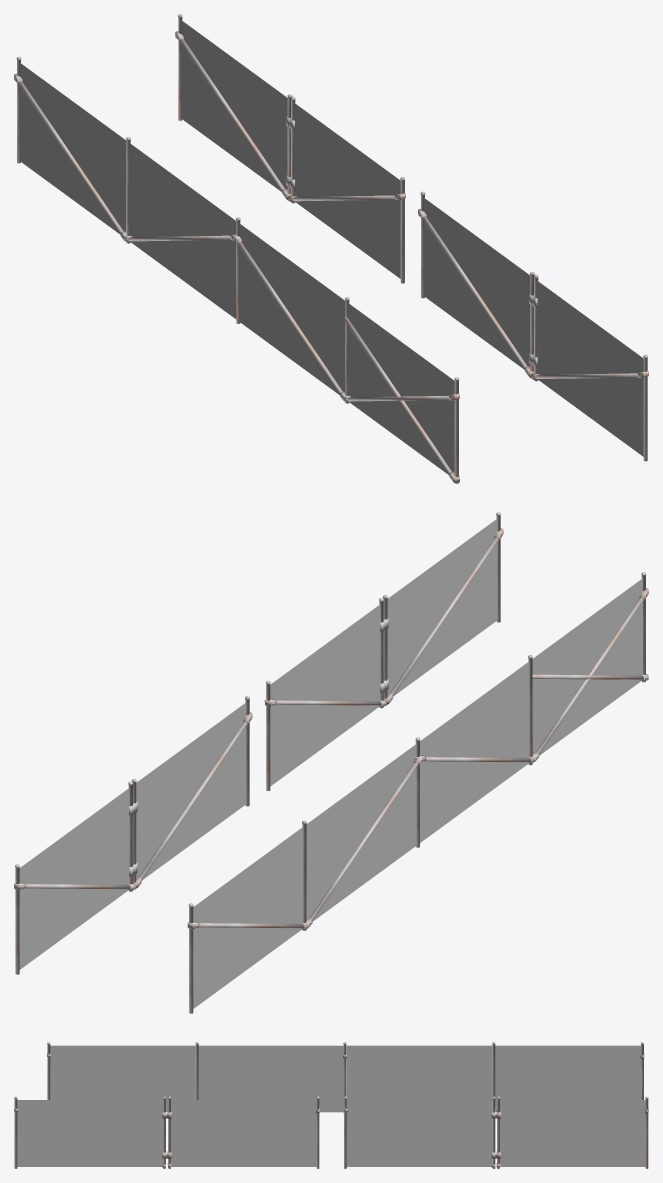
Rendered from Chain Link Fences.fbx.
3 renders of one model, top to bottom at view 1: azimuth 30°, elevation 25°; view 2: azimuth 150°, elevation 25°; view 3: azimuth 270°, elevation 25°, orthographic. The views are drawn at different scales.
Visible parts, largest first — view 1: MeshFence.003, MeshFence.007, MeshFence.001, MeshFence.004, MeshFence.002, MeshFence, MeshFence.006, MeshFence.005, GateRight, Fence_NEdge, Fence_NEdgeInvert, GateLeft (+5 smaller); view 2: MeshFence.004, MeshFence, MeshFence.006, MeshFence.002, MeshFence.003, MeshFence.007, MeshFence.001, MeshFence.005, GateLeft, Fence_NEdgeInvert, Fence_NEdge, GateRight (+5 smaller); view 3: MeshFence.001, MeshFence, MeshFence.007, MeshFence.006, MeshFence.002, MeshFence.003, MeshFence.004, MeshFence.005, GateRight, Fence_NEdge, GateLeft, Fence_NEdgeInvert (+4 smaller).
Part boxes in pixels (box(x1,y1,x2,y2)): MeshFence.003: box(129, 143, 236, 318); MeshFence.007: box(537, 280, 643, 456); MeshFence.001: box(294, 103, 400, 278); MeshFence.004: box(20, 63, 126, 234); MeshFence.002: box(239, 223, 345, 394); MeshFence: box(424, 198, 530, 369); MeshFence.006: box(181, 20, 287, 191); MeshFence.005: box(348, 303, 454, 474); GateRight: box(175, 14, 292, 200); Fence_NEdge: box(418, 191, 534, 378); Fence_NEdgeInvert: box(288, 96, 405, 283); GateLeft: box(531, 274, 648, 461); MeshFence.004: box(193, 827, 303, 1008); MeshFence: box(270, 604, 380, 786); MeshFence.006: box(19, 788, 129, 969); MeshFence.002: box(420, 661, 529, 842); MeshFence.003: box(306, 744, 416, 921); MeshFence.007: box(387, 518, 497, 696); MeshFence.001: box(136, 702, 246, 879); MeshFence.005: box(532, 578, 642, 755); GateLeft: box(383, 512, 503, 705); Fence_NEdgeInvert: box(132, 696, 252, 888); Fence_NEdge: box(264, 598, 386, 790); GateRight: box(14, 781, 135, 974); MeshFence.001: box(346, 1100, 492, 1166); MeshFence: box(171, 1100, 316, 1166); MeshFence.007: box(17, 1100, 162, 1166); MeshFence.006: box(500, 1100, 645, 1166); MeshFence.002: box(198, 1045, 343, 1112); MeshFence.003: box(346, 1045, 492, 1099); MeshFence.004: box(495, 1045, 640, 1108); MeshFence.005: box(50, 1045, 195, 1111); GateRight: box(496, 1096, 648, 1168); Fence_NEdge: box(167, 1096, 319, 1168); GateLeft: box(14, 1096, 165, 1168); Fence_NEdgeInvert: box(343, 1096, 495, 1168).
Size of what is drawn, in the model's own units: 587 by 344 by 2770.
